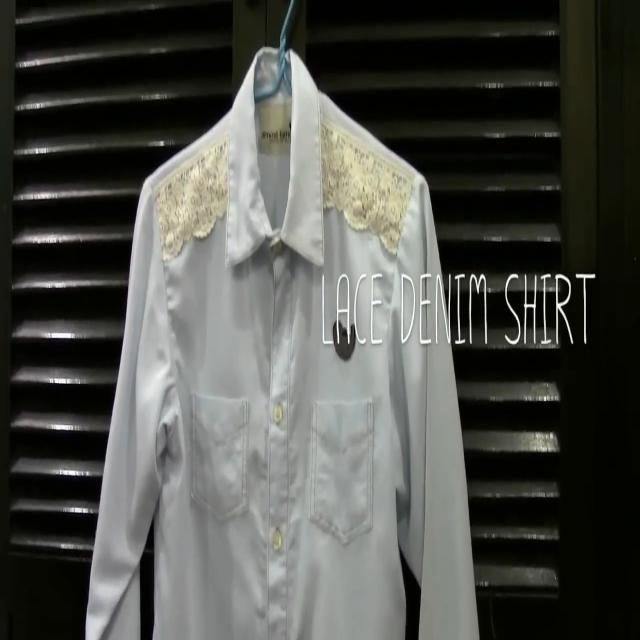Shirt: (86, 46, 480, 640)
